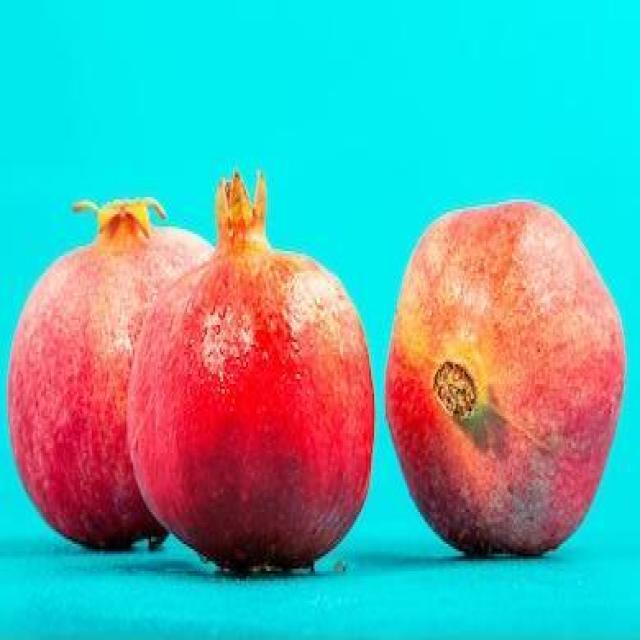Pomegranate: (128, 163, 378, 574), (384, 197, 626, 562)
